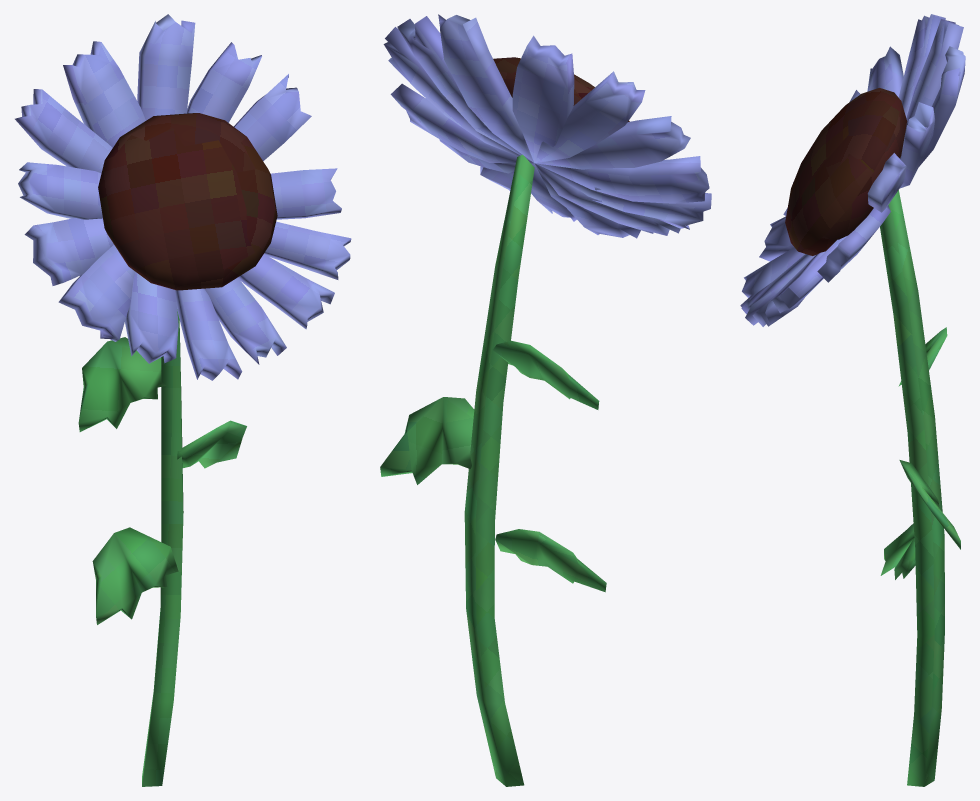
Rendered from blue_sunflower.fbx.
3 views of the same model, side by side, from view 1: azimuth 30°, elevation 25°; view 2: azimuth 150°, elevation 25°; view 3: azimuth 270°, elevation 25° (orthographic). The views are drawn at different scales.
Parts seen in each view (by area): view 1: blue_sunflower; view 2: blue_sunflower; view 3: blue_sunflower.
Boxes of the visible parts, x1,y1,x2,y2 form: blue_sunflower: [15, 14, 351, 786]; blue_sunflower: [380, 14, 711, 786]; blue_sunflower: [740, 14, 965, 786].
Size of the model in its own units: 28.27 by 65.75 by 17.96.
